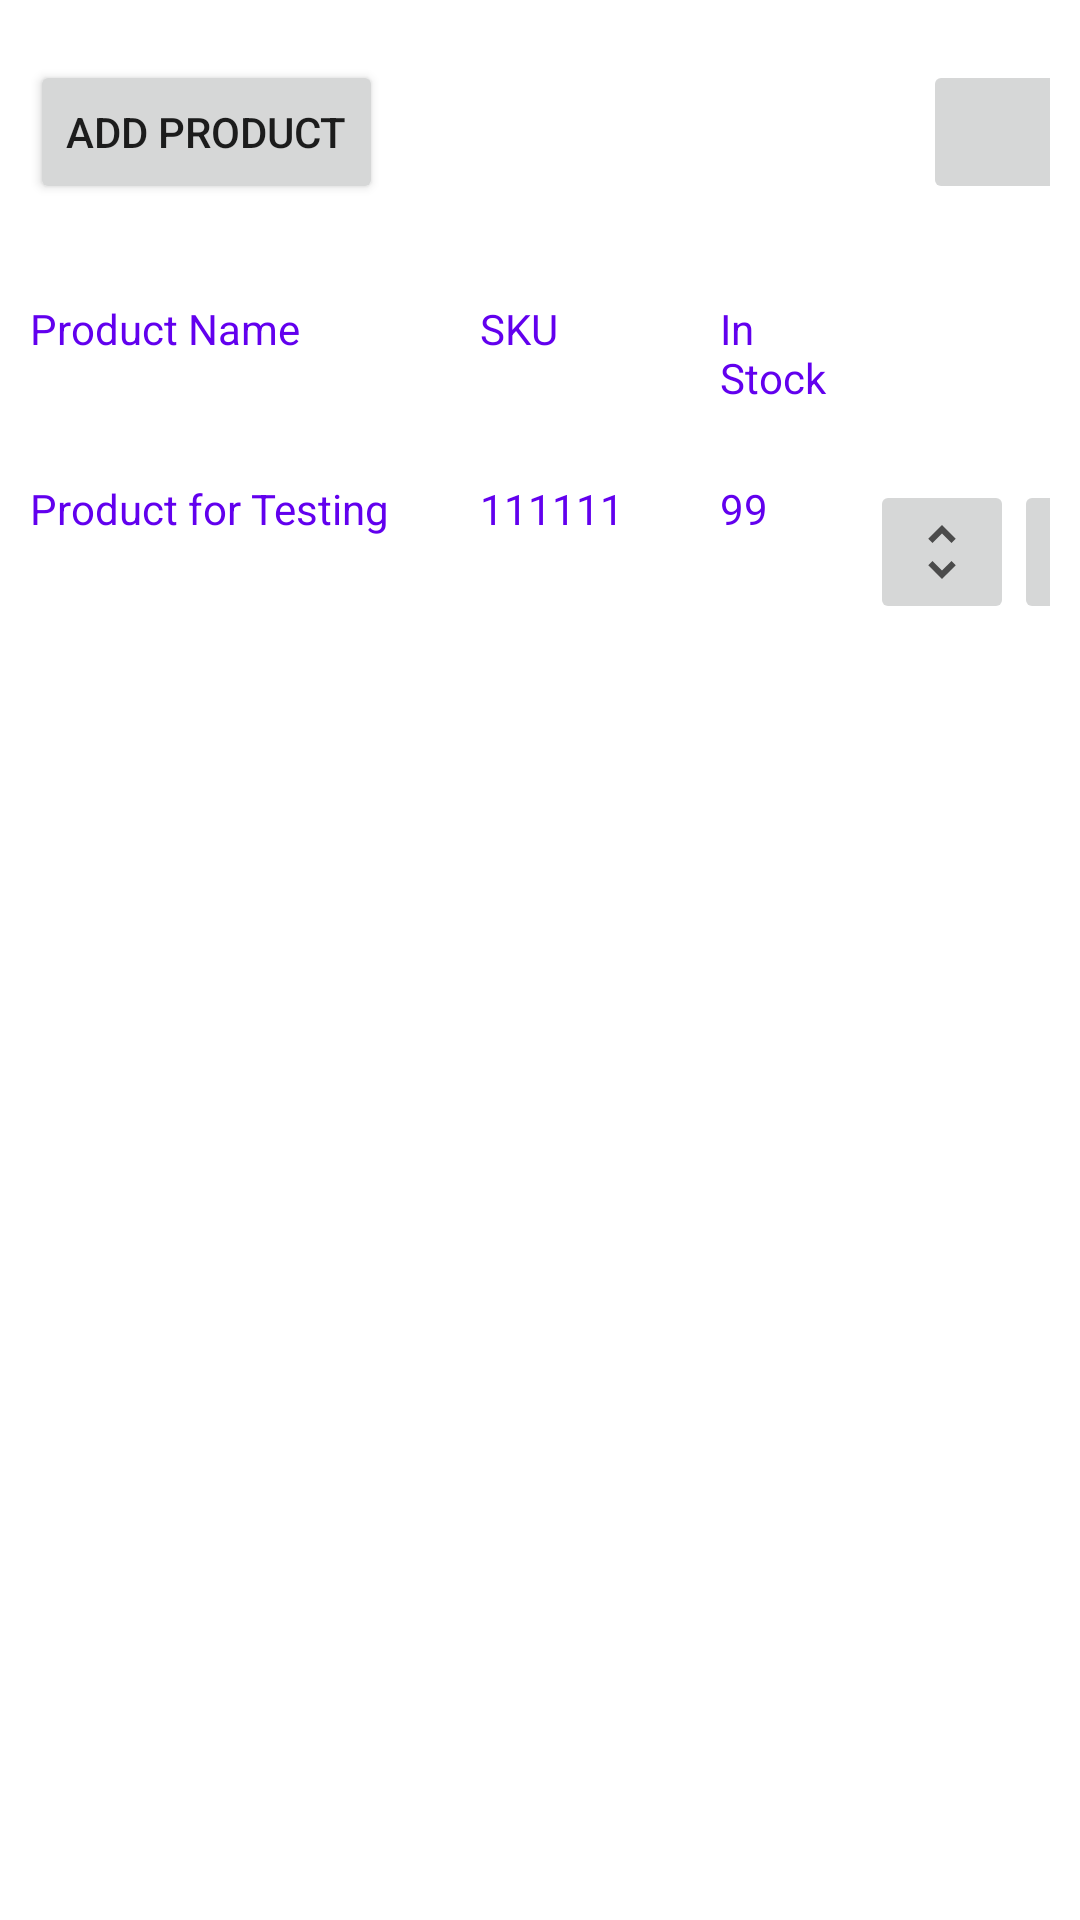

Locate icon controls on the screen. Image size 1080x1920, boxes as [x1=x1, y1=y1, x2=x2, y2=y2].
Update Quantity: [x1=882, y1=498, x2=1002, y2=606]
